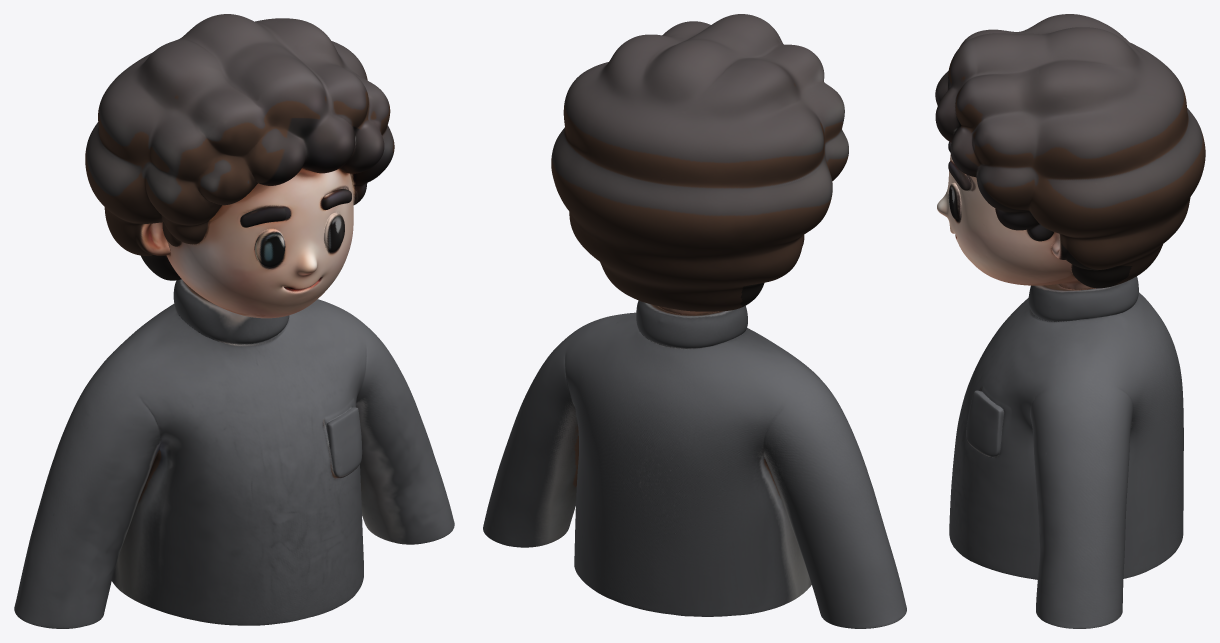
The model's file is pocketsflow-mascot.glb.
The picture shows the model from 3 angles, left to right: view 1: azimuth 30°, elevation 25°; view 2: azimuth 150°, elevation 25°; view 3: azimuth 270°, elevation 25°; orthographic projection. The views are drawn at different scales.
Visible parts, largest first — view 1: model; view 2: model; view 3: model.
Part boxes in pixels (<box>): model: <box>14,14,454,628</box>; model: <box>483,14,906,628</box>; model: <box>935,14,1205,628</box>.
Bounding box in the file's own units: 1.41 × 1.72 × 0.8367.
Materials: 1 (1 with a texture image).
